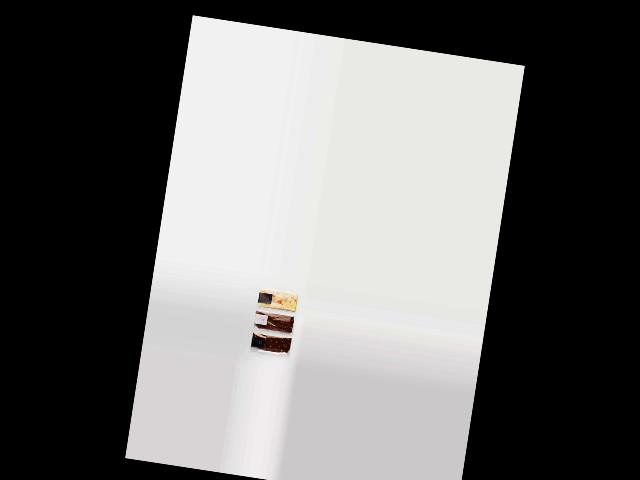chocolate: (250, 330, 295, 361)
